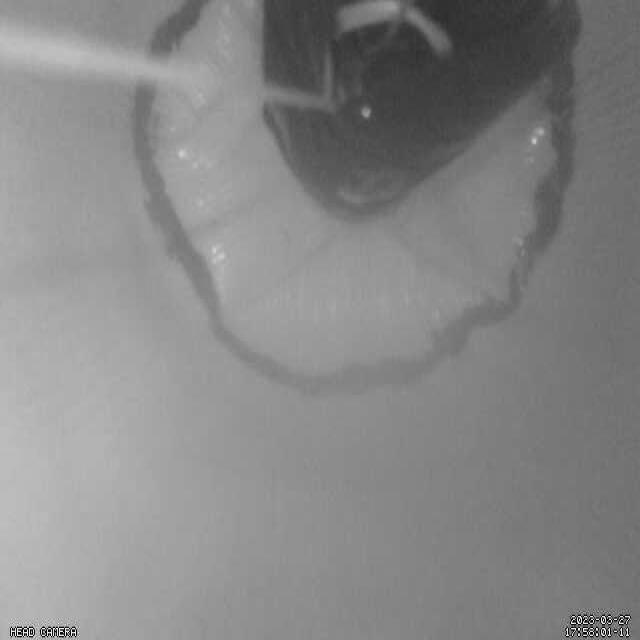red-circle: (129, 0, 577, 403)
